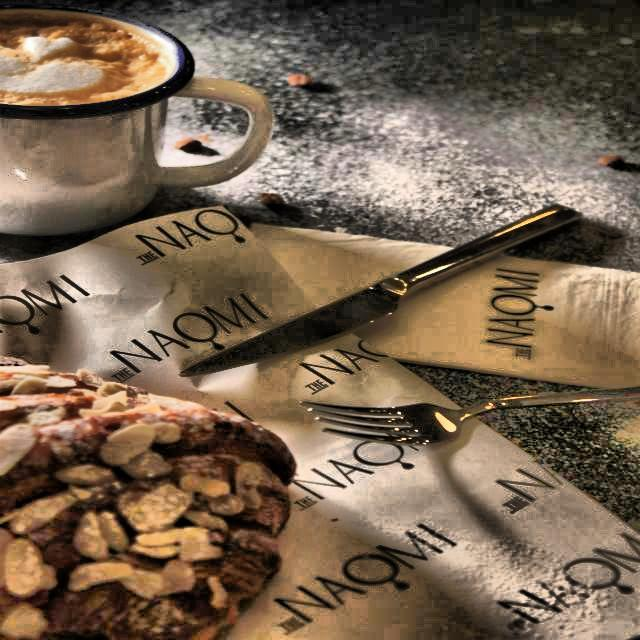knife: (164, 192, 587, 374)
